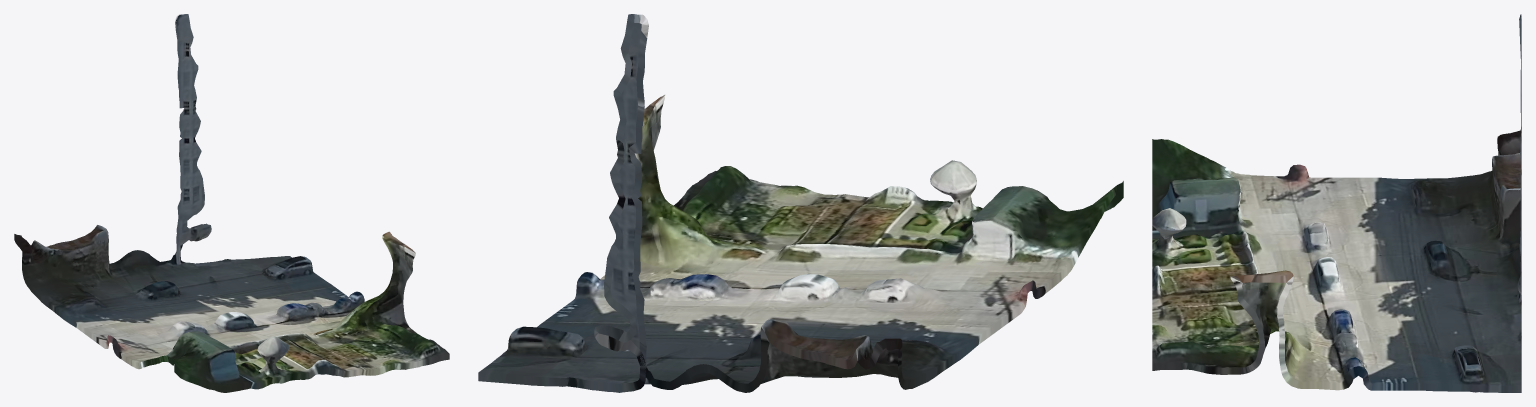
Rendered from z20-167719-405193-h0-yup-uvflip-v3-world.glb.
3 renders of one model, left to right at view 1: azimuth 30°, elevation 25°; view 2: azimuth 150°, elevation 25°; view 3: azimuth 270°, elevation 25°, orthographic. The views are drawn at different scales.
Bounding box in the file's own units: 30.16 × 28.68 × 30.32.
Materials: 1 (1 with a texture image).
